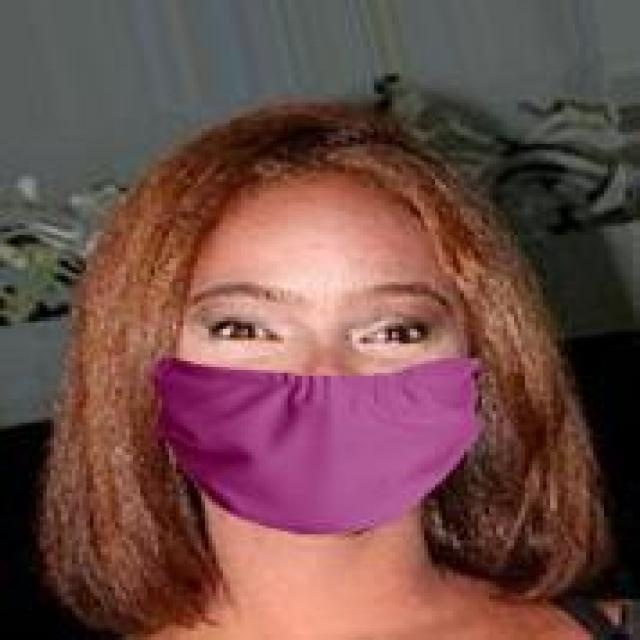mask: (93, 64, 597, 570)
